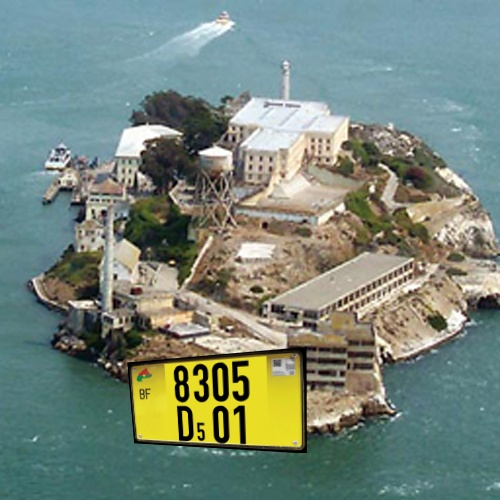plate: (112, 340, 326, 461)
